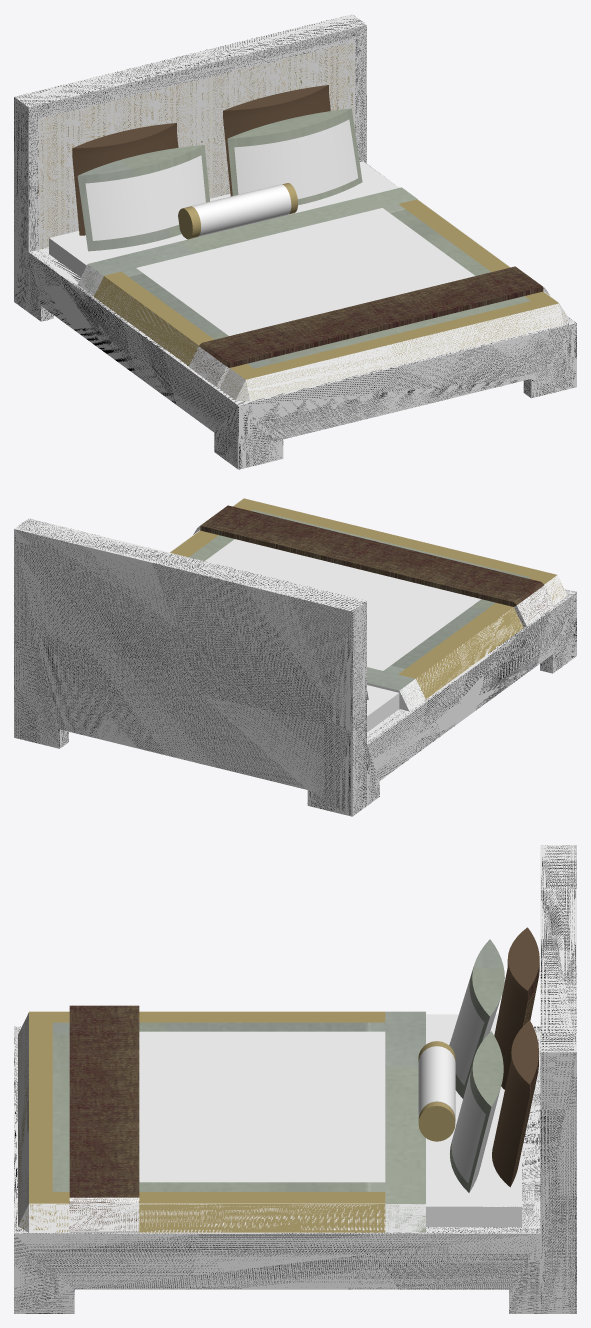
Rendered from bed.dae.
The picture shows the model from 3 angles, top to bottom: view 1: azimuth 30°, elevation 25°; view 2: azimuth 150°, elevation 25°; view 3: azimuth 270°, elevation 25°; orthographic projection. The views are drawn at different scales.
Visible parts, largest first — view 1: group_0 (×18); view 2: group_0 (×9); view 3: group_0 (×18).
Boxes of the visible parts, x1,y1,x2,y2 form: group_0 (×18): (14,14,576,469); group_0 (×9): (14,498,576,816); group_0 (×18): (14,845,576,1313).
Size of the model in its own units: 142 by 163 by 83.33.
Materials: 9 (4 with a texture image).
